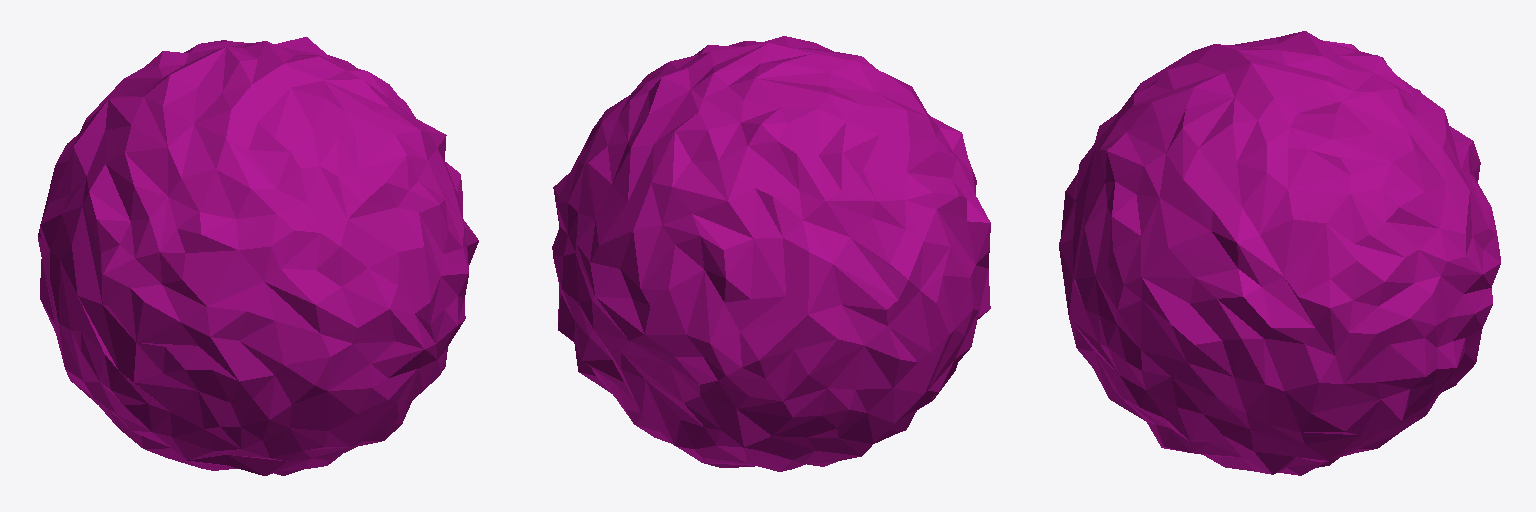
File: venus_scaled.obj
3 renders of one model, left to right at view 1: azimuth 30°, elevation 25°; view 2: azimuth 150°, elevation 25°; view 3: azimuth 270°, elevation 25°, orthographic.
Parts seen in each view (by area): view 1: Venus; view 2: Venus; view 3: Venus.
Part boxes in pixels (x1,y1,x2,y2): Venus: (38, 37, 478, 475); Venus: (552, 36, 990, 471); Venus: (1059, 31, 1500, 475).
Bounding box in the file's own units: 10.03 × 10.04 × 10.1.